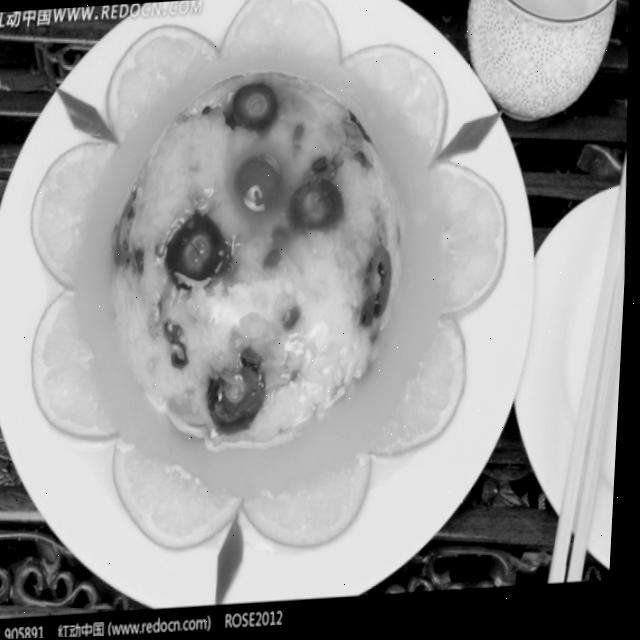米饭主食: (98, 51, 431, 473)
